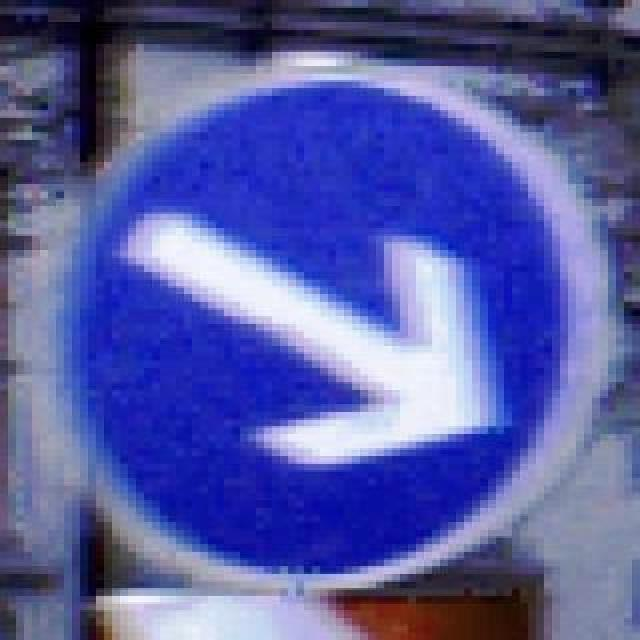keep right: (48, 60, 608, 588)
